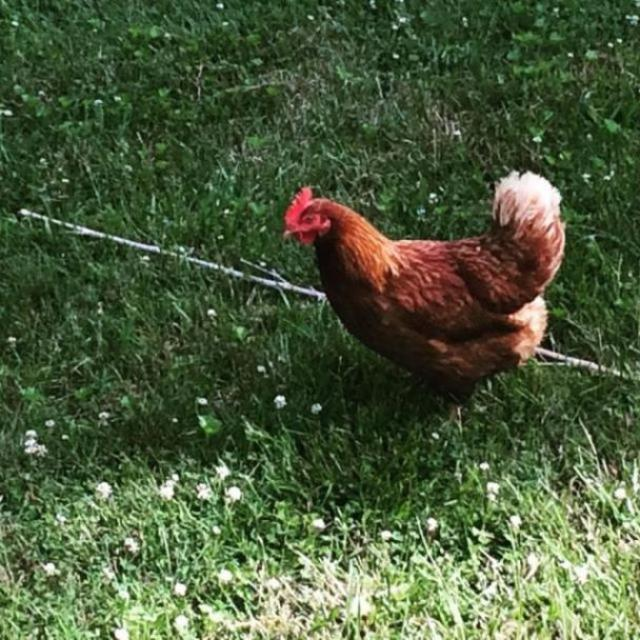Chicken: (273, 166, 618, 409)
